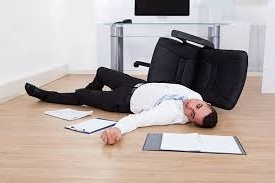fall: (20, 65, 228, 144)
